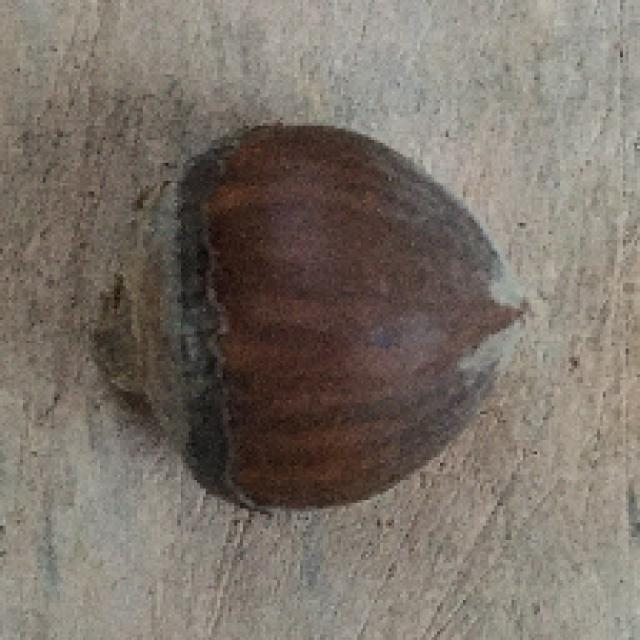damagedHazelnut: (111, 126, 544, 514)
